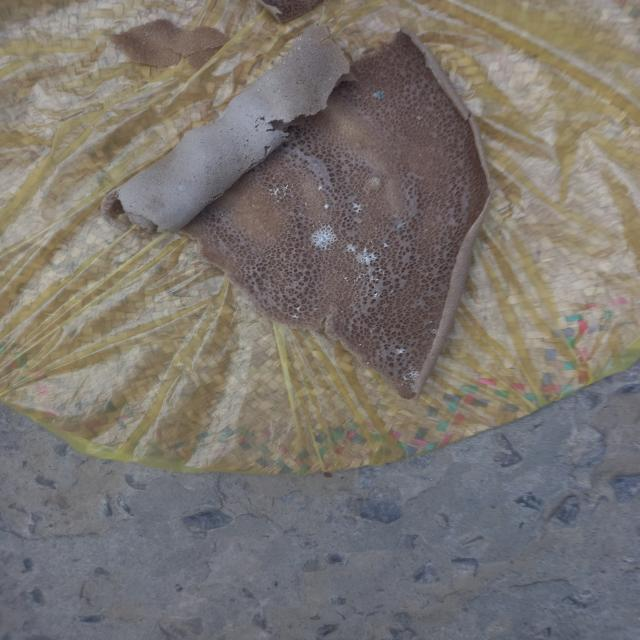injera_mold: (307, 227, 342, 250), (340, 273, 385, 285), (400, 362, 419, 388), (267, 183, 291, 203), (358, 246, 378, 268), (346, 200, 368, 216), (291, 304, 303, 322), (393, 218, 408, 232), (175, 183, 190, 195), (372, 89, 385, 101), (393, 346, 408, 356), (366, 290, 382, 298), (349, 241, 358, 255), (382, 239, 392, 251), (430, 326, 440, 336), (321, 203, 332, 211), (295, 47, 304, 55), (280, 62, 291, 67), (318, 186, 323, 192)
